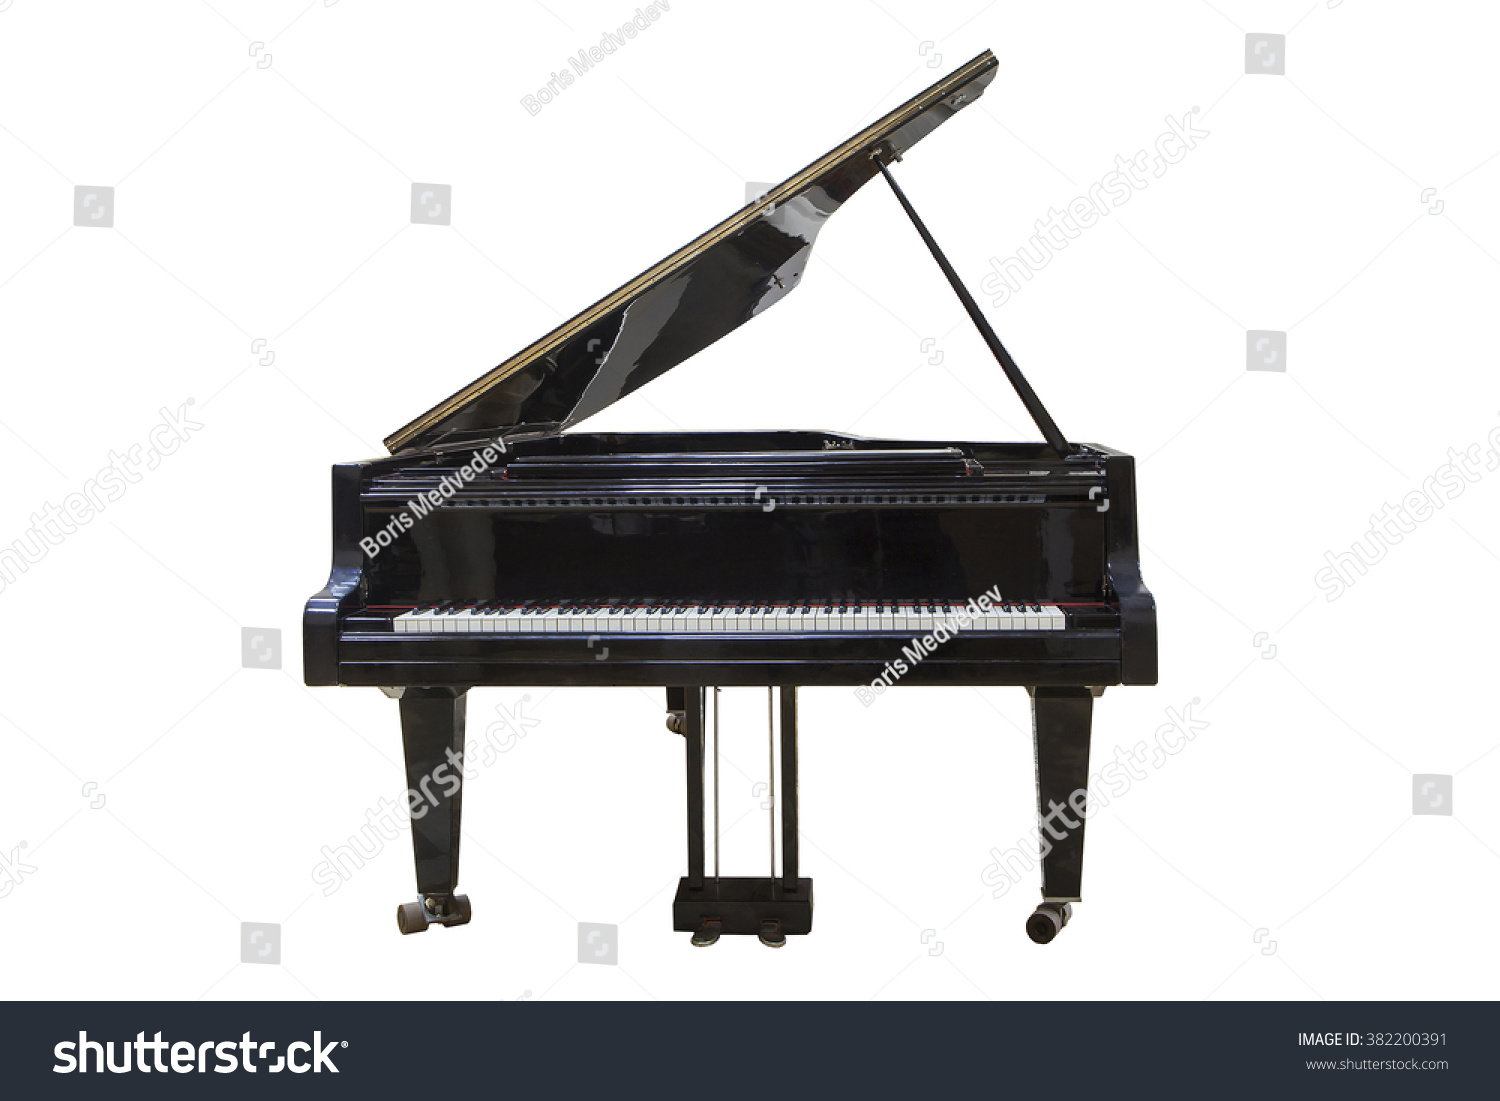Piano: (163, 24, 1315, 1028)
